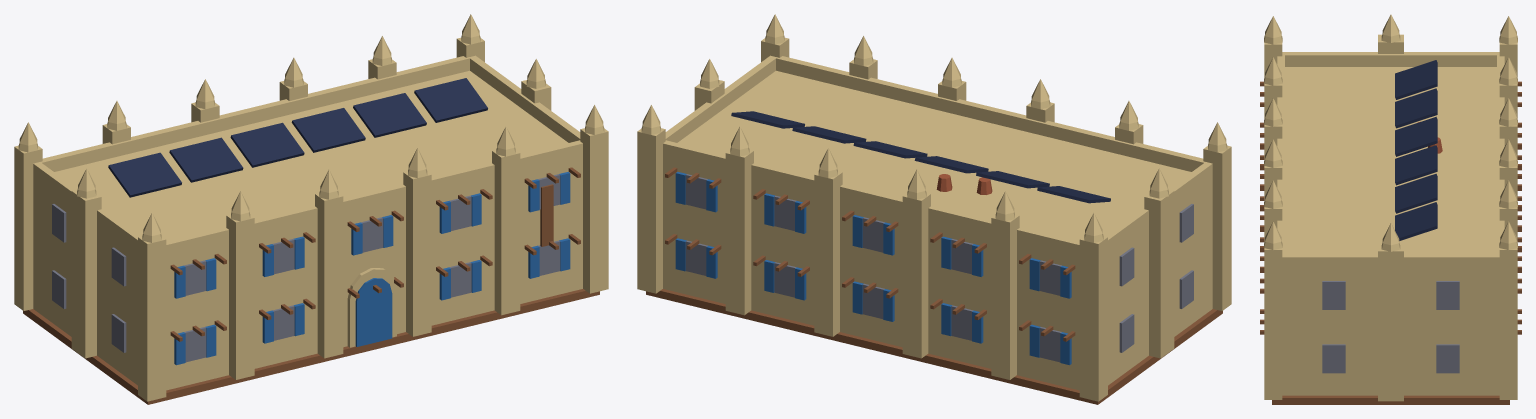
Rendered from house-2x1-2f-third-banco-a-solar.glb.
The picture shows the model from 3 angles, left to right: view 1: azimuth 30°, elevation 25°; view 2: azimuth 150°, elevation 25°; view 3: azimuth 270°, elevation 25°; orthographic projection. The views are drawn at different scales.
Parts seen in each view (by area): view 1: house-2x1-2f-third-banco-a-solar; view 2: house-2x1-2f-third-banco-a-solar; view 3: house-2x1-2f-third-banco-a-solar.
Part boxes in pixels (bbox=[...]): house-2x1-2f-third-banco-a-solar: bbox=[14, 14, 608, 404]; house-2x1-2f-third-banco-a-solar: bbox=[637, 14, 1231, 404]; house-2x1-2f-third-banco-a-solar: bbox=[1260, 14, 1521, 404].
Size of the model in its own units: 1.99 by 0.775 by 1.01.
1 material, 1 textured.
